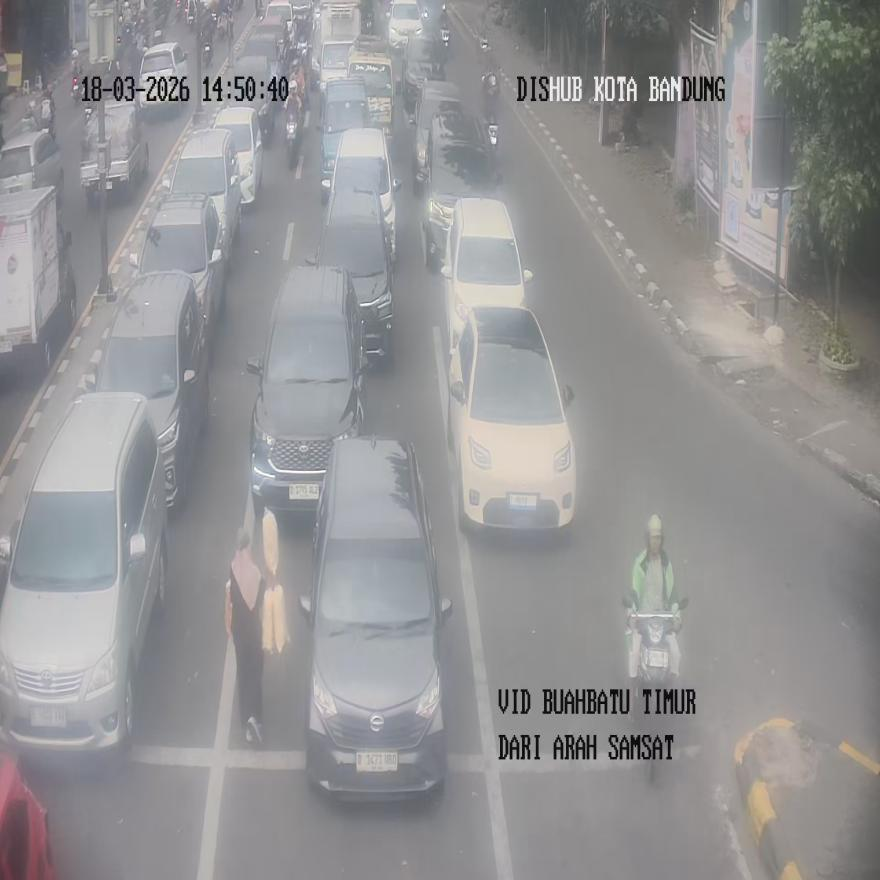Mobil: (0, 392, 168, 756), (298, 435, 452, 799), (246, 264, 369, 511), (83, 271, 207, 510), (448, 305, 576, 530), (307, 183, 395, 363), (128, 192, 225, 349), (0, 184, 77, 373), (440, 198, 532, 354), (163, 126, 242, 269), (326, 127, 400, 265)
Motor: (624, 594, 686, 783), (285, 96, 304, 167), (72, 68, 82, 104)
